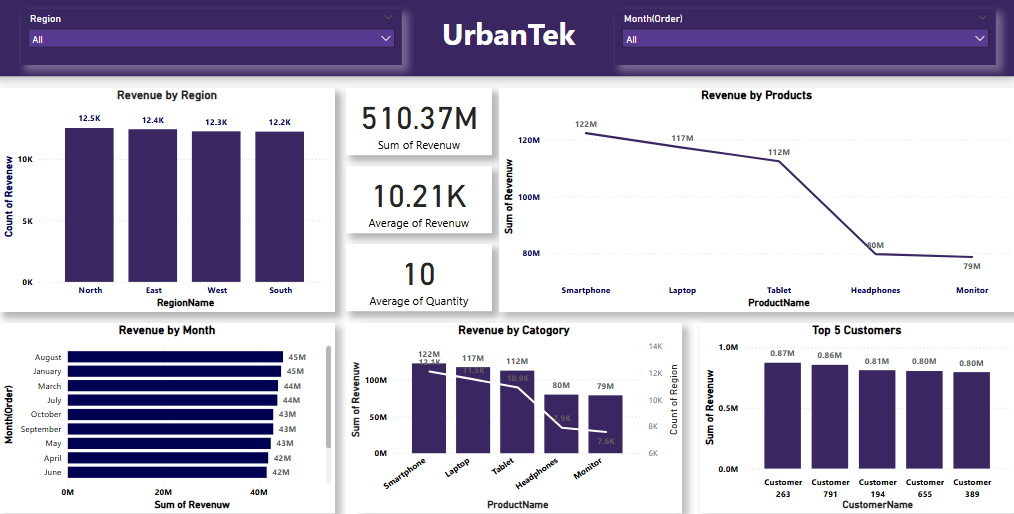

What the dashboard file says about the page in this screenshot:
{"tool":"powerbi","page":{"name":"Page 1","canvas":[1450,741],"ordinal":0},"visuals":[{"type":"shape","box":[-6,0,1456,112],"z":0},{"type":"shape","box":[0,128,480,320],"z":1000},{"type":"shape","box":[714,128,736,320],"z":2000},{"type":"shape","box":[0,464,480,272],"z":3000},{"type":"shape","box":[512,464,464,272],"z":4000},{"type":"shape","box":[1002,464,448,272],"z":5000},{"type":"shape","box":[496,128,208,96],"z":6000},{"type":"shape","box":[496,240,208,96],"z":7000},{"type":"shape","box":[496,352,208,96],"z":8000},{"type":"textbox","box":[576,16,304,80],"z":9000},{"type":"columnChart","title":"Revenue by Region","fields":{"Category":["Dim_Region.RegionName"],"Y":["CountNonNull(Sales_Orders.Revenew)"]},"box":[0,128,480,320],"z":10000},{"type":"card","fields":{"Values":["Sum(Sales_Orders.Revenuw)"]},"box":[496,128,208,96],"z":11000},{"type":"lineChart","title":"Revenue by Products","fields":{"Category":["Dim_Products.ProductName"],"Y":["Sum(Sales_Orders.Revenuw)"]},"box":[714,128,736,320],"z":12000},{"type":"card","fields":{"Values":["Avg(Sales_Orders.Revenuw)"]},"box":[496,240,208,96],"z":13000},{"type":"card","fields":{"Values":["Avg(Sales_Orders.Quantity)"]},"box":[496,352,208,96],"z":14000},{"type":"barChart","title":"Revenue by Month","fields":{"Category":["Sales_Orders.Month(Order)"],"Y":["Sum(Sales_Orders.Revenuw)"]},"box":[0,464,480,272],"z":15000},{"type":"lineStackedColumnComboChart","title":"Revenue by Catogory","fields":{"Category":["Dim_Products.ProductName"],"Y":["Sum(Sales_Orders.Revenuw)"],"Y2":["CountNonNull(Sales_Orders.Region)"]},"box":[496,464,480,272],"z":16000},{"type":"columnChart","title":"Top 5 Customers","fields":{"Category":["Dim_Customers.CustomerName"],"Y":["Sum(Sales_Orders.Revenuw)"]},"box":[1002,464,448,272],"z":17000},{"type":"slicer","fields":{"Values":["Sales_Orders.Region"]},"box":[32,16,544,80],"z":18000},{"type":"slicer","fields":{"Values":["Sales_Orders.Month(Order)"]},"box":[880,16,544,80],"z":19000}]}

Visuals, with their boxes in screenshot pixels (x1, y1, x2, y2), scaled from the page's 1450x741 canvas onto the 1014x514 screenshot:
shape: (0,0,1013,78)
shape: (0,89,336,311)
shape: (499,89,1013,311)
shape: (0,322,336,511)
shape: (358,322,683,511)
shape: (701,322,1013,511)
shape: (347,89,492,155)
shape: (347,166,492,233)
shape: (347,244,492,311)
textbox: (403,11,615,67)
"Revenue by Region" columnChart: (0,89,336,311)
card - Sum(Sales_Orders.Revenuw): (347,89,492,155)
"Revenue by Products" lineChart: (499,89,1013,311)
card - Avg(Sales_Orders.Revenuw): (347,166,492,233)
card - Avg(Sales_Orders.Quantity): (347,244,492,311)
"Revenue by Month" barChart: (0,322,336,511)
"Revenue by Catogory" lineStackedColumnComboChart: (347,322,683,511)
"Top 5 Customers" columnChart: (701,322,1013,511)
slicer - Sales_Orders.Region: (22,11,403,67)
slicer - Sales_Orders.Month(Order): (615,11,996,67)
